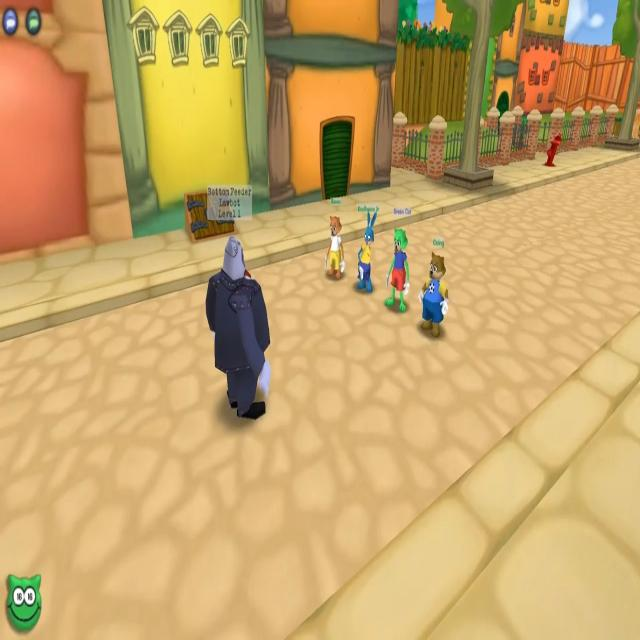bottomfeeder: (204, 166, 269, 426)
